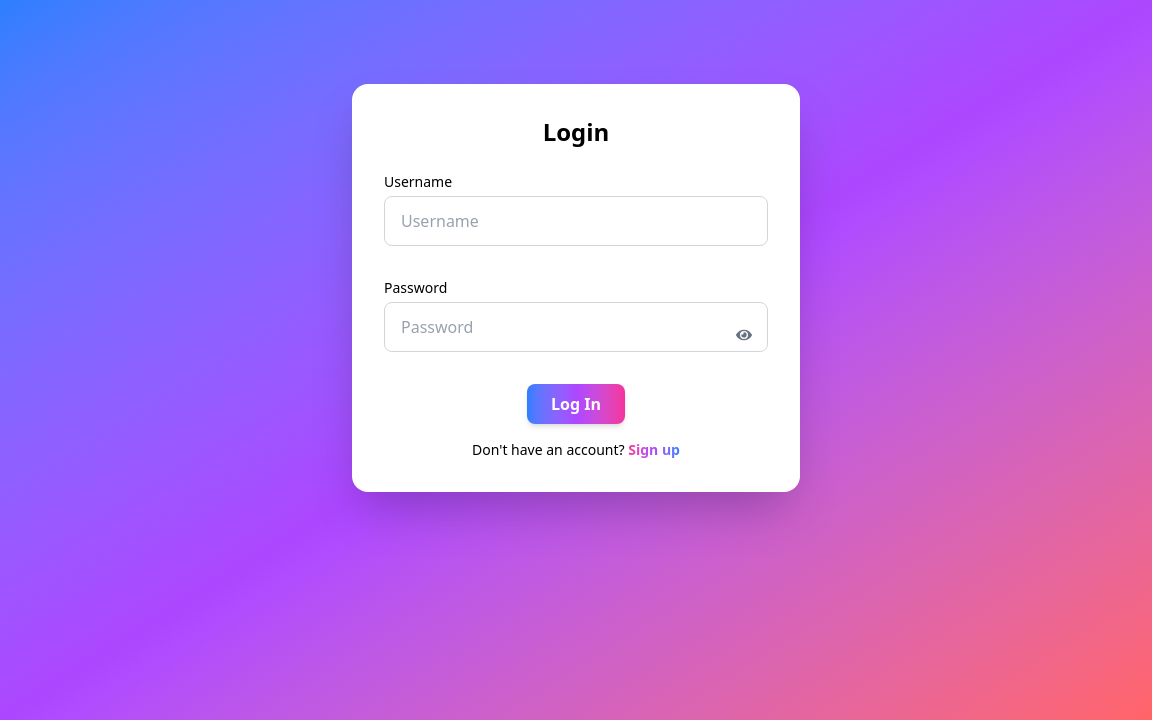
Login Component › shows an error message for invalid login credentials
Type "wronguser" into the field labelled "Username" at (576, 221), box 384,196 -> 768,246
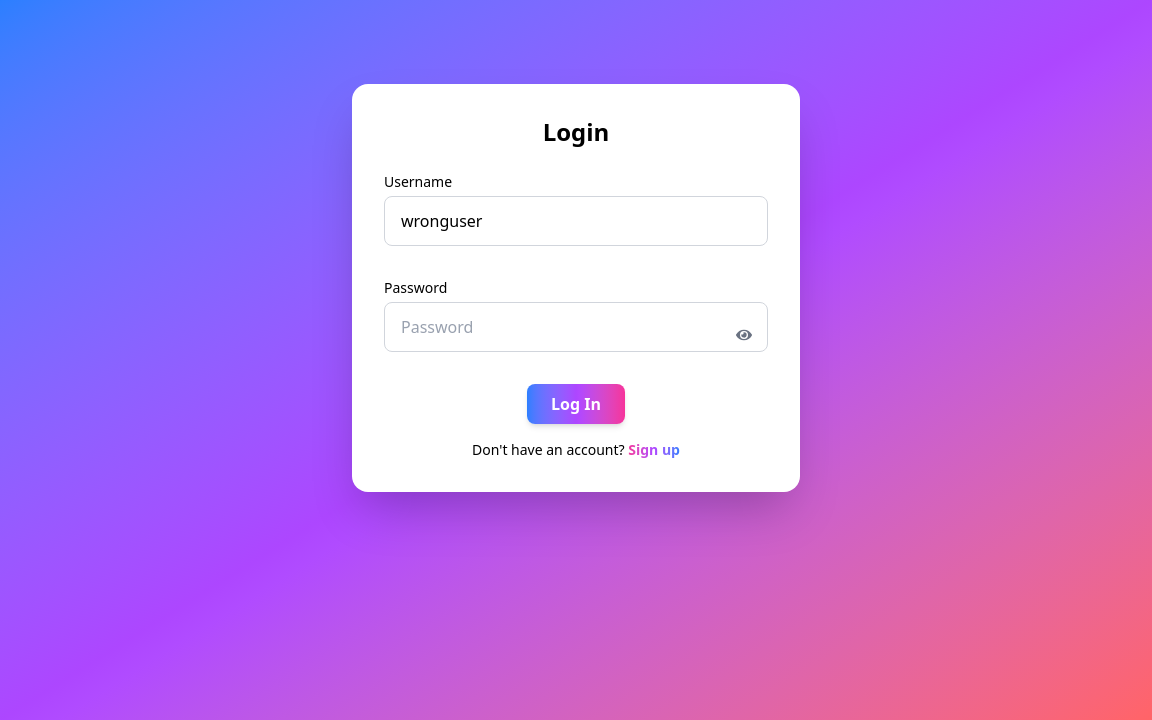
Type "wrongpassword" into the password field labelled "Password" at (576, 327), box 384,302 -> 768,352
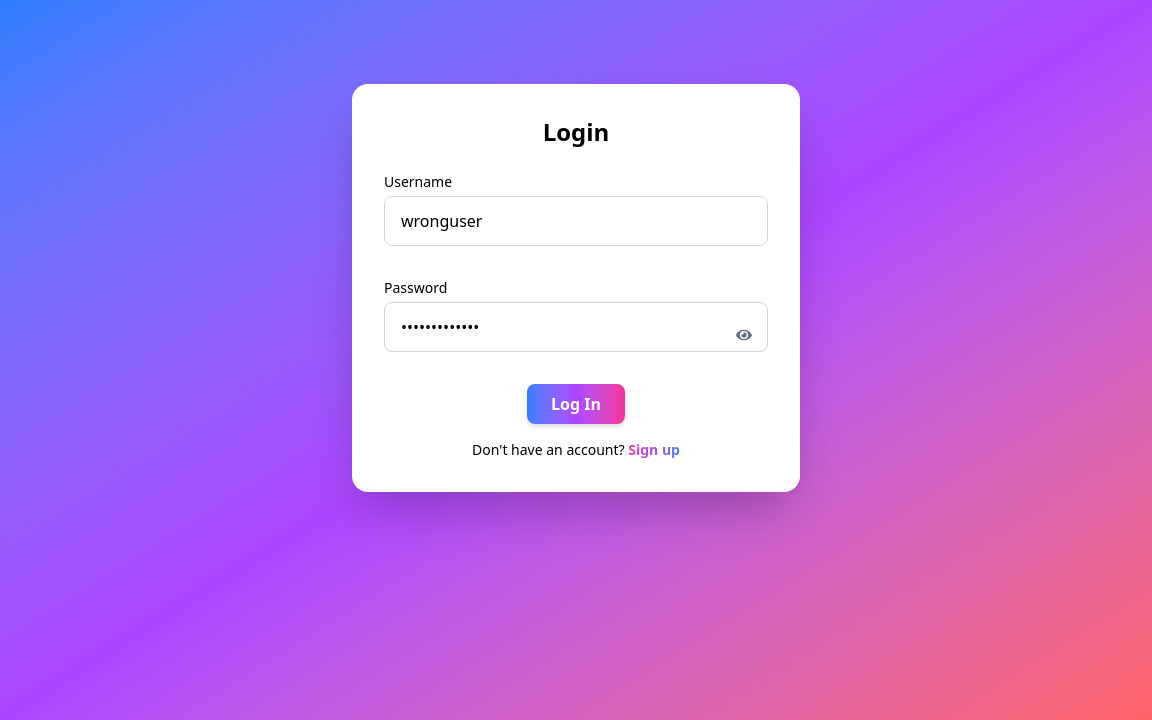
Click the button "Log In" at (576, 404), box 527,384 -> 625,424
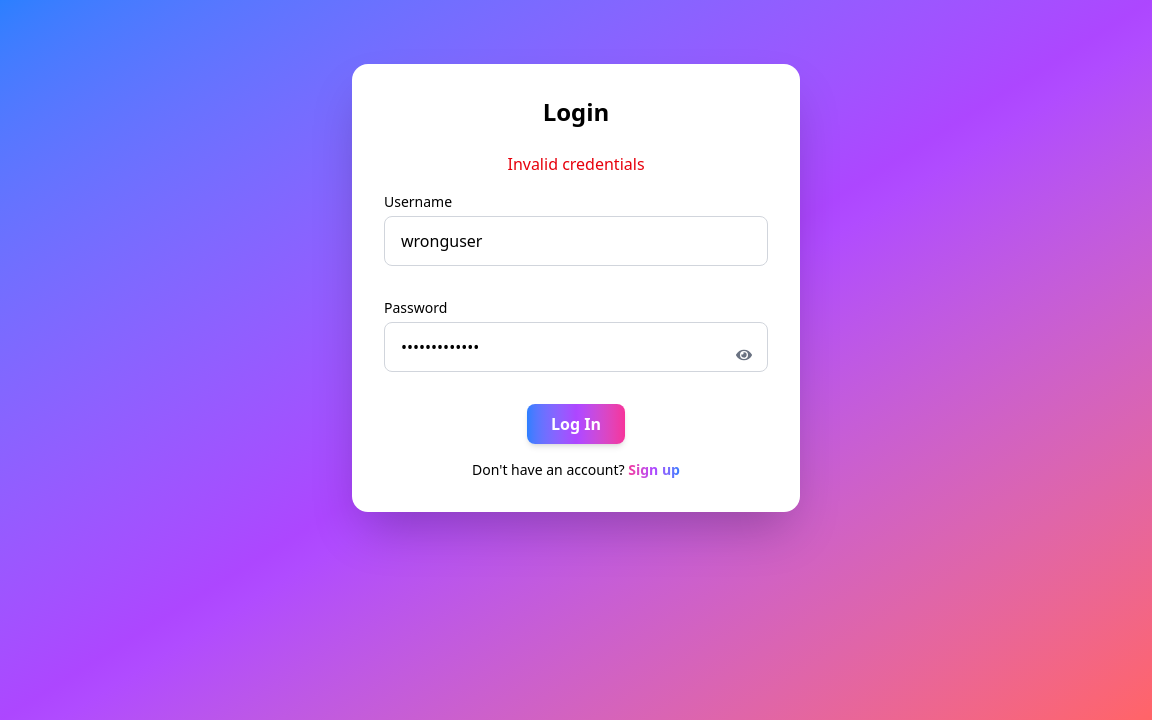
Now the text "Invalid credentials" is shown, box 508,153 -> 645,175
